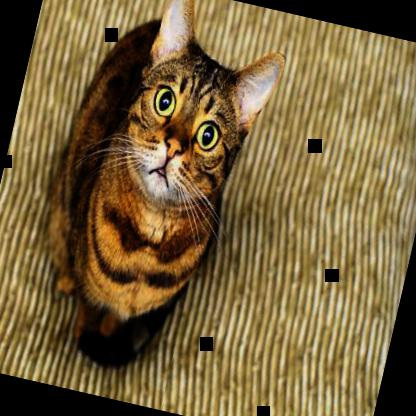cat: (14, 0, 299, 391)
